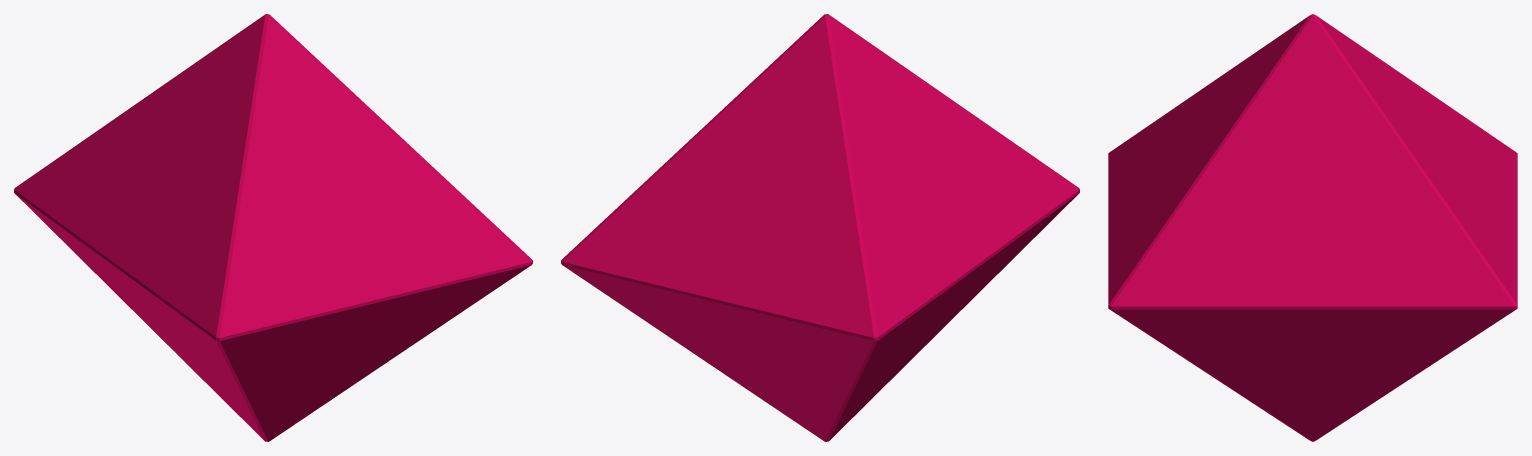
The model's file is nav-jewel.dae.
The picture shows the model from 3 angles, left to right: view 1: azimuth 30°, elevation 25°; view 2: azimuth 150°, elevation 25°; view 3: azimuth 270°, elevation 25°; orthographic projection.
Visible parts, largest first — view 1: polySurface1808; view 2: polySurface1808; view 3: polySurface1808.
Part boxes in pixels (x1,y1,x2,y2): polySurface1808: (14, 14, 532, 441); polySurface1808: (561, 14, 1079, 441); polySurface1808: (1108, 14, 1517, 441).
Size of the model in its own units: 0.188 by 0.2418 by 0.2106.
